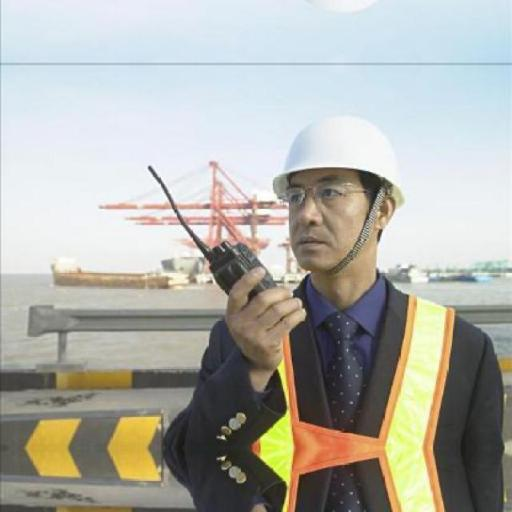Person: (128, 82, 510, 509)
helmet: (262, 108, 414, 214)
vest: (252, 290, 454, 507)
